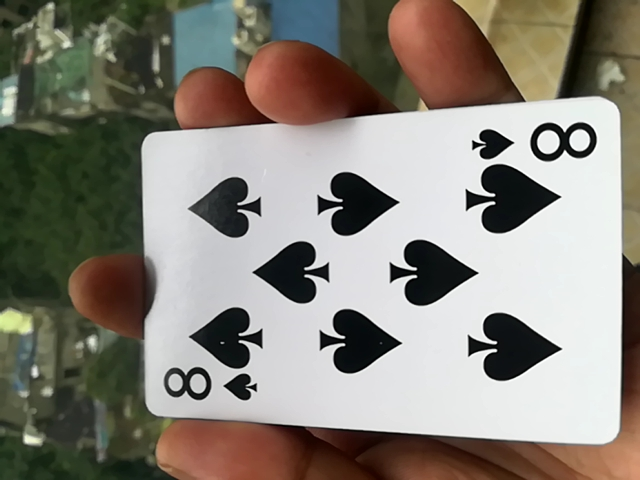ht 8: (123, 106, 612, 454)
